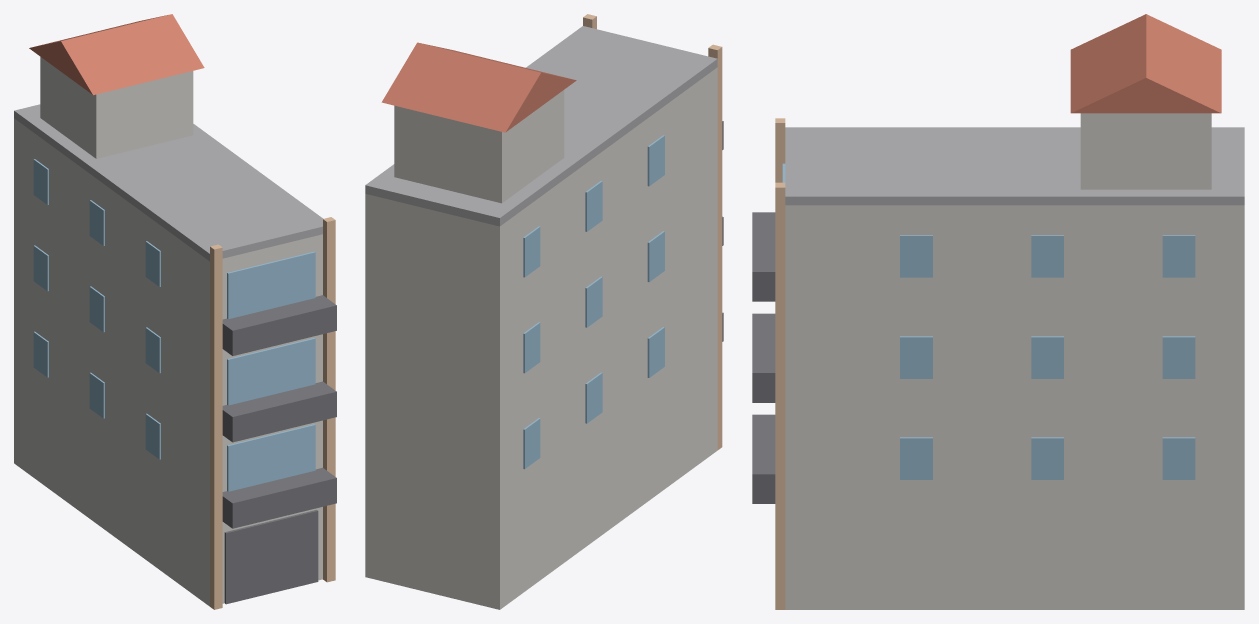
Rendered from house-pho.glb.
The picture shows the model from 3 angles, left to right: view 1: azimuth 30°, elevation 25°; view 2: azimuth 150°, elevation 25°; view 3: azimuth 270°, elevation 25°; orthographic projection. The views are drawn at different scales.
Visible parts, largest first — view 1: Tường, Mái, Ban công, Cửa kính, Tum, Mặt tiền, Mái tum, Cửa cuốn, Cửa sổ hông; view 2: Tường, Mái, Tum, Mái tum, Cửa sổ hông, Mặt tiền; view 3: Tường, Mái, Cửa sổ hông, Mái tum, Tum, Ban công, Mặt tiền.
Boxes of the visible parts, x1,y1,x2,y2 form: Tường: (14, 118, 322, 606); Mái: (14, 104, 323, 261); Ban công: (222, 295, 336, 528); Cửa kính: (227, 251, 315, 491); Tum: (40, 57, 193, 158); Mặt tiền: (210, 217, 335, 609); Mái tum: (29, 14, 204, 95); Cửa cuốn: (224, 510, 318, 604); Cửa sổ hông: (33, 159, 160, 459); Tường: (365, 67, 717, 609); Mái: (365, 26, 717, 226); Tum: (394, 90, 564, 203); Mái tum: (381, 42, 576, 132); Cửa sổ hông: (523, 135, 664, 469); Mặt tiền: (583, 14, 722, 449); Tường: (785, 205, 1244, 609); Mái: (785, 127, 1244, 205); Cửa sổ hông: (900, 235, 1195, 479); Mái tum: (1070, 14, 1221, 113); Tum: (1080, 113, 1211, 189); Ban công: (752, 212, 775, 503); Mặt tiền: (775, 118, 785, 609).
Bounding box in the file's own units: 5.12 × 17.8 × 15.
